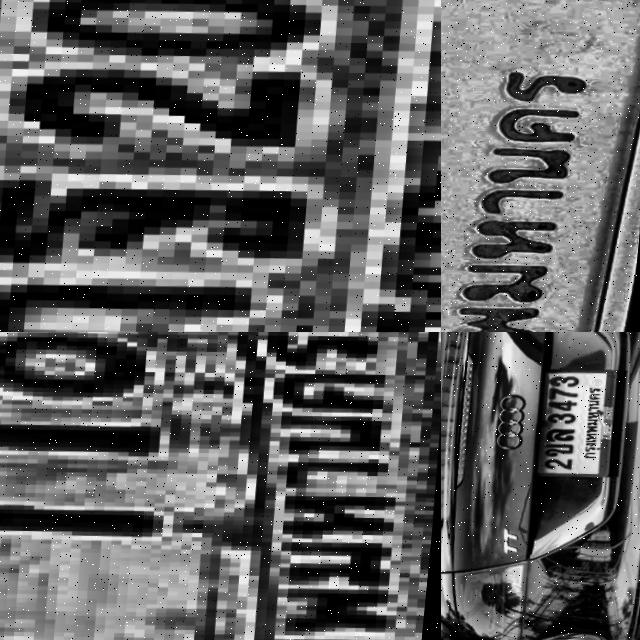license-plate: (0, 0, 441, 332), (0, 332, 441, 640), (441, 0, 640, 332), (532, 363, 628, 476)
